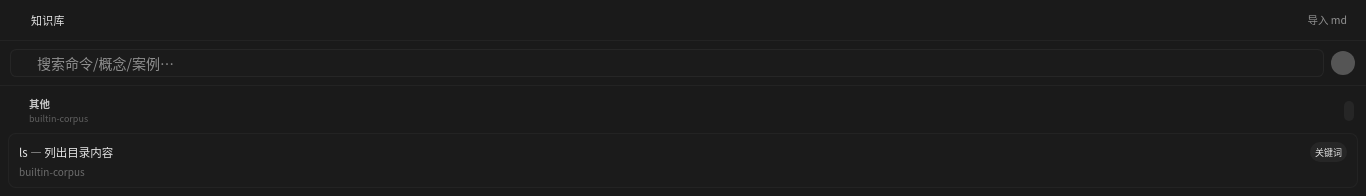
Test: KnowledgePanel — 条目详情与空态 › 搜索无结果显示空态
Check: the text "ls — 列出目录内容" is shown, box 19,144 -> 113,160
Type "qqxxzz" into the field with placeholder "搜索命令/概念/案例…" at (676, 63), box 37,50 -> 1315,76
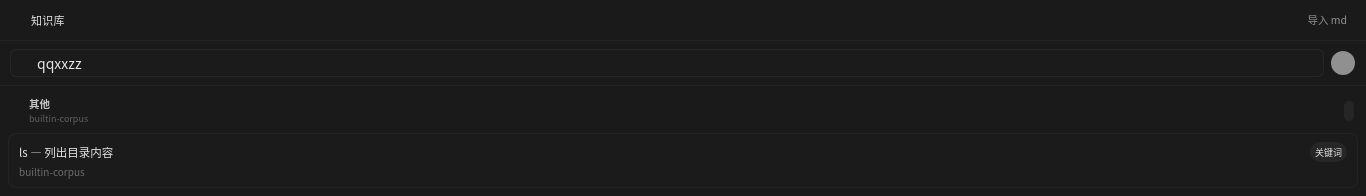
Click the button named "检索" at (1343, 63), box 1330,50 -> 1356,76
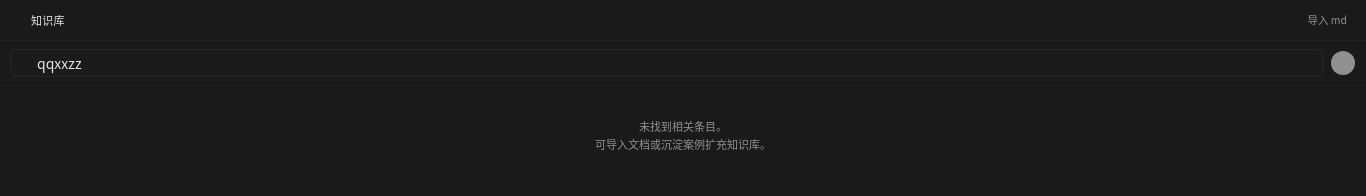
Check: the text "未找到相关条目。可导入文档或沉淀案例扩充知识库。" is shown, box 595,118 -> 771,152
